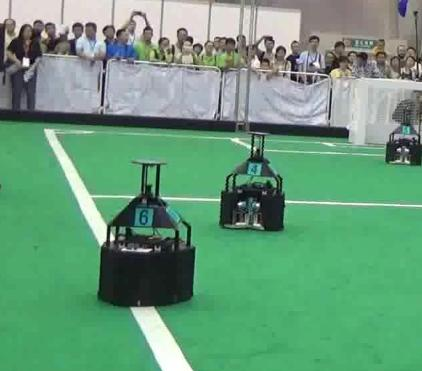robot: (96, 155, 197, 309), (217, 129, 287, 232), (384, 101, 422, 167)
